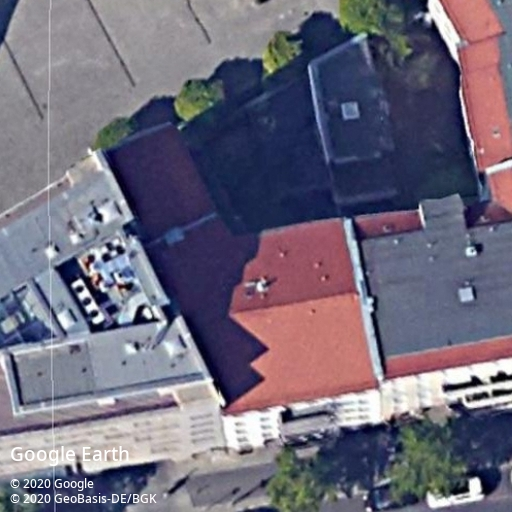Chiller: (70, 277, 106, 327)
